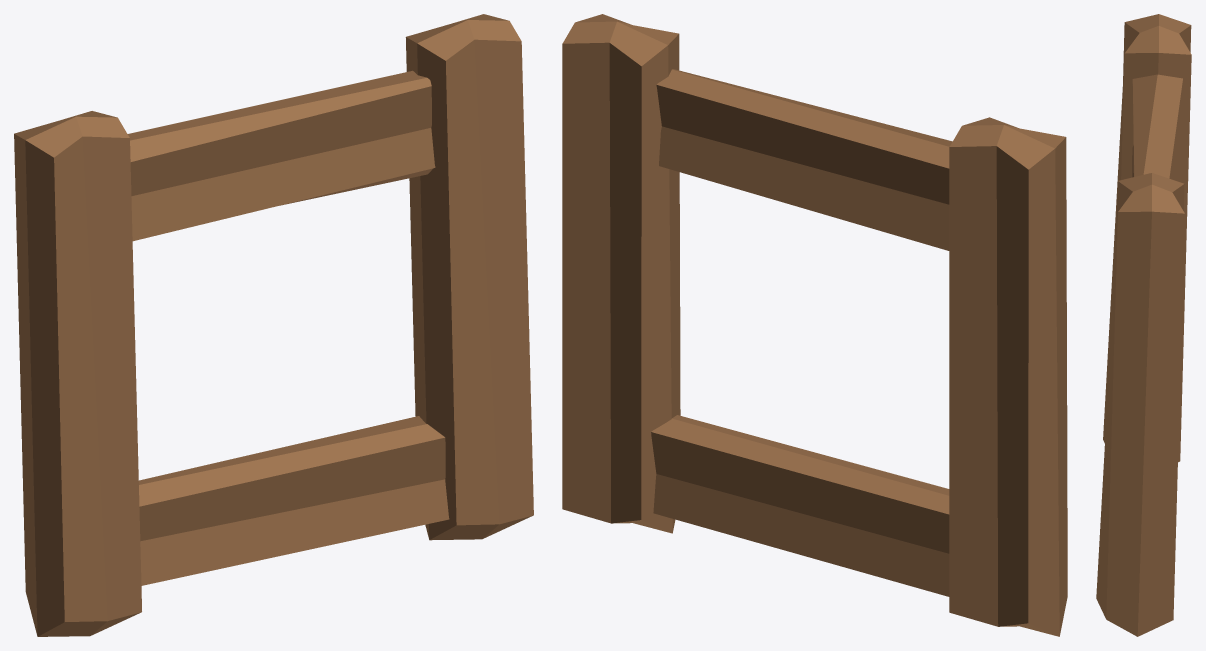
File: Fence_3 Door.fbx
3 views of the same model, side by side, from view 1: azimuth 30°, elevation 25°; view 2: azimuth 150°, elevation 25°; view 3: azimuth 270°, elevation 25° (orthographic). The views are drawn at different scales.
Parts seen in each view (by area): view 1: Fence3Door_mesh; view 2: Fence3Door_mesh; view 3: Fence3Door_mesh.
Part boxes in pixels (x1,y1,x2,y2): Fence3Door_mesh: (14, 14, 533, 636); Fence3Door_mesh: (562, 14, 1067, 636); Fence3Door_mesh: (1096, 14, 1191, 636).
Bounding box in the file's own units: 70.85 × 71.78 × 14.04.
